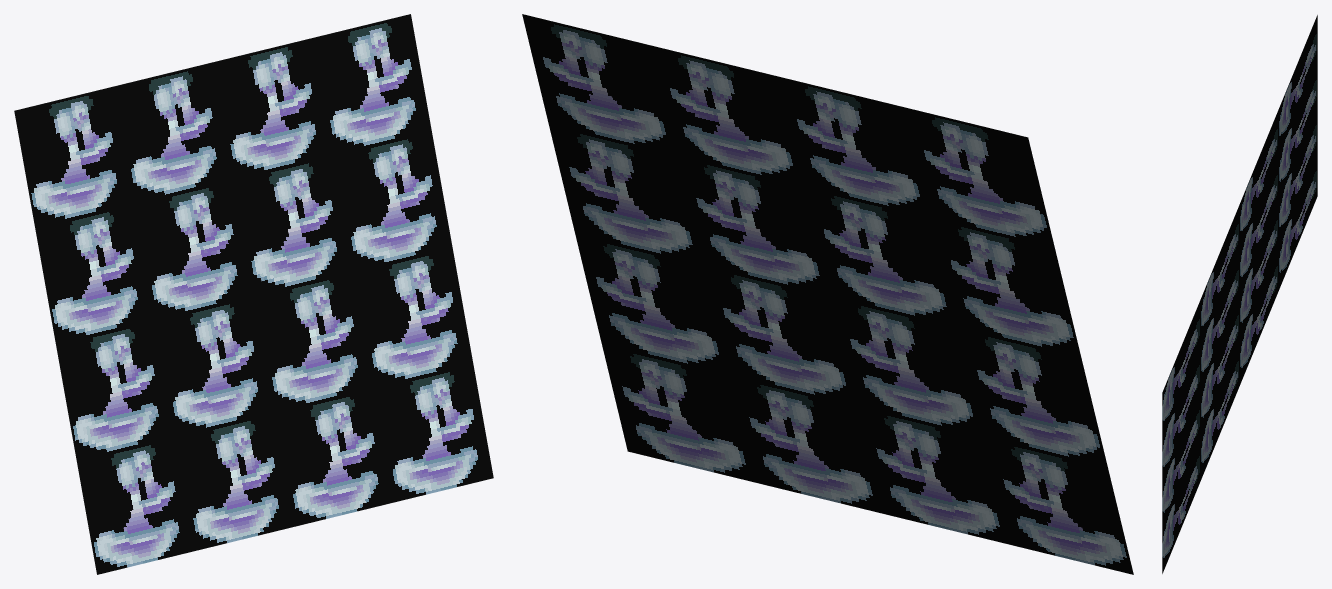
File: 0516kinoko_d03.gltf
3 renders of one model, left to right at view 1: azimuth 30°, elevation 25°; view 2: azimuth 150°, elevation 25°; view 3: azimuth 270°, elevation 25°, orthographic. The views are drawn at different scales.
Parts seen in each view (by area): view 1: 0516kinoko_d03; view 2: 0516kinoko_d03; view 3: 0516kinoko_d03.
Part boxes in pixels (x1,y1,x2,y2): 0516kinoko_d03: [14, 14, 493, 574]; 0516kinoko_d03: [522, 14, 1133, 574]; 0516kinoko_d03: [1162, 15, 1317, 573].
Size of the model in its own units: 0.7607 by 0.7395 by 0.2751.
Materials: 1 (1 with a texture image).
